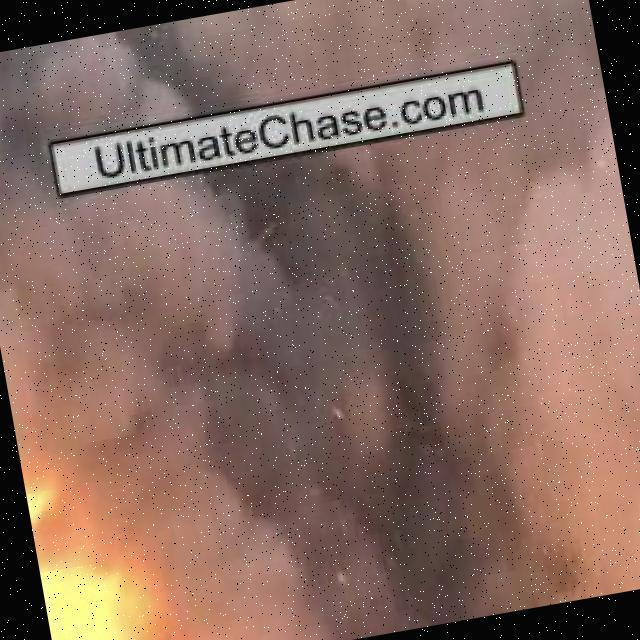Fire: (13, 394, 190, 640)
